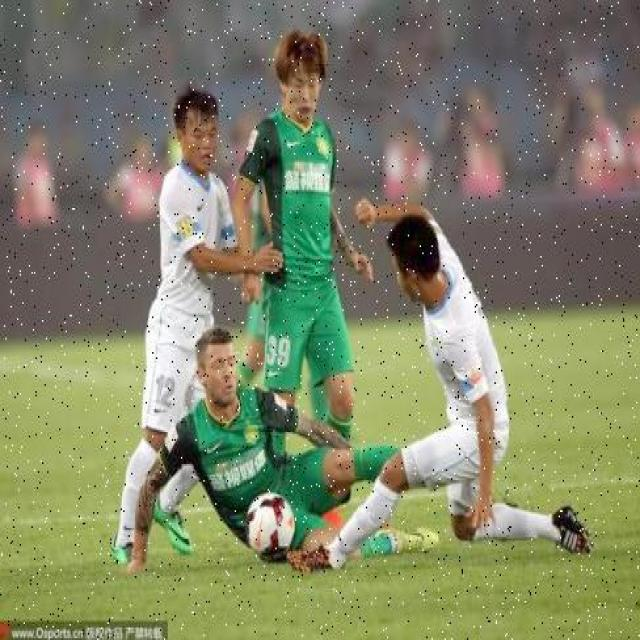fall: (146, 334, 366, 550)
